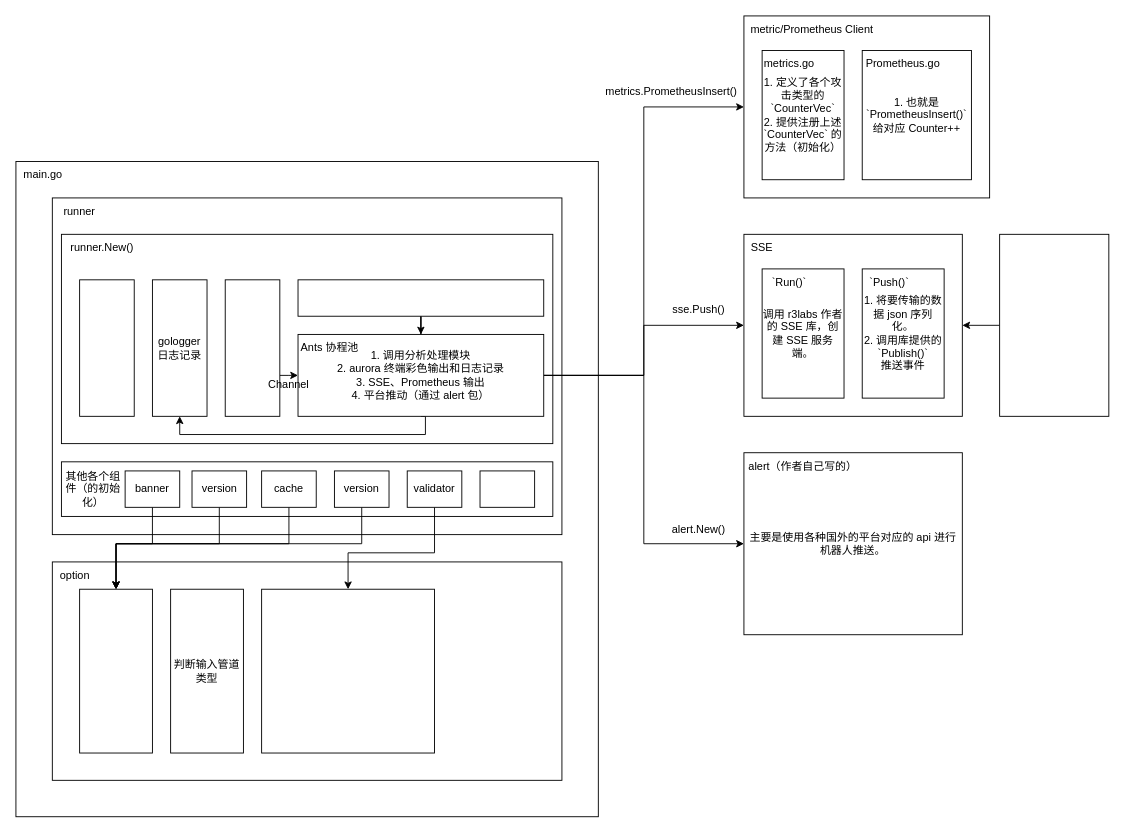
The diagram is 1125 pixels wide and 833 high, and some of its shapes have lost their labels. Each missing label, with the centre of its shape:
gonx 解析日志: the point at 252,347
logs: the point at 507,488
signal 中断处理: the point at 106,347
sizedwaitgroup 限制协程池数量: the point at 420,297
作者在创建 SSE 服务端的同时，也创建了 dashboard（SSE 客户端）以展示数据。为了方便，自定义 mux 做路由控制。: the point at 1054,324
命令行参数解析: the point at 115,670
验证用户输入的设置，包括： 1. 配置文件 2. 自定义规则 3. alert 平台推送设置 4. zinc 配置检查: the point at 348,670
